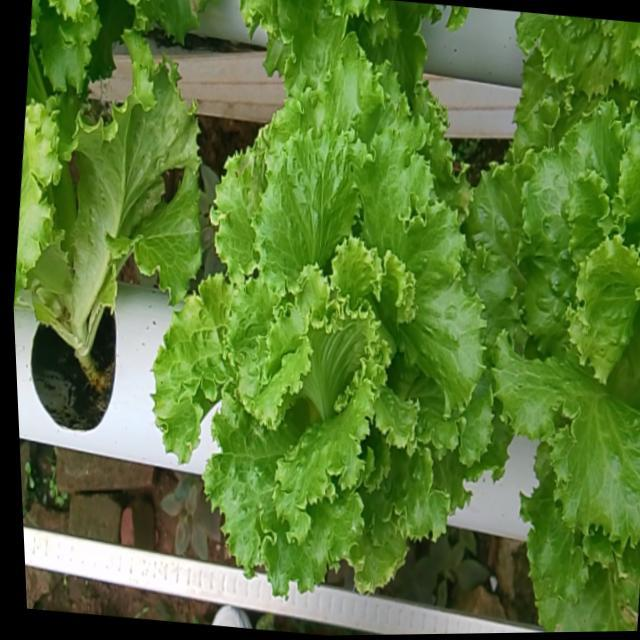Mature: (144, 68, 483, 611), (459, 111, 640, 566)
